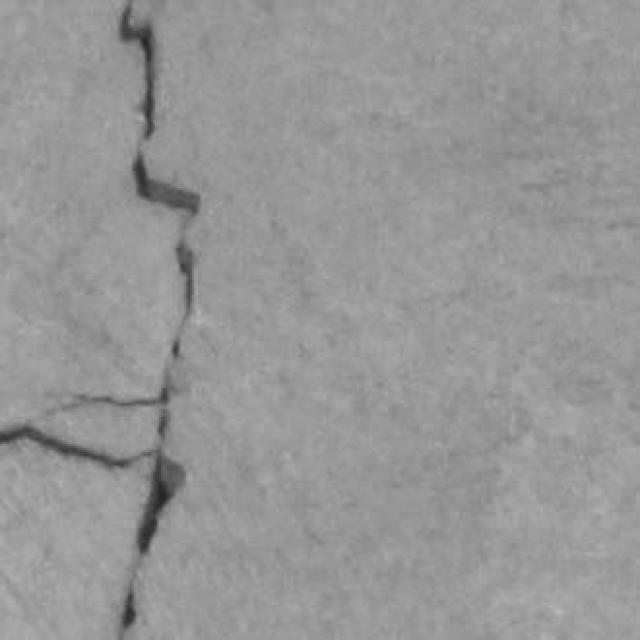crack: (121, 0, 199, 638), (0, 425, 155, 469), (119, 2, 155, 137), (138, 452, 184, 554), (132, 154, 199, 215), (49, 394, 164, 413)
